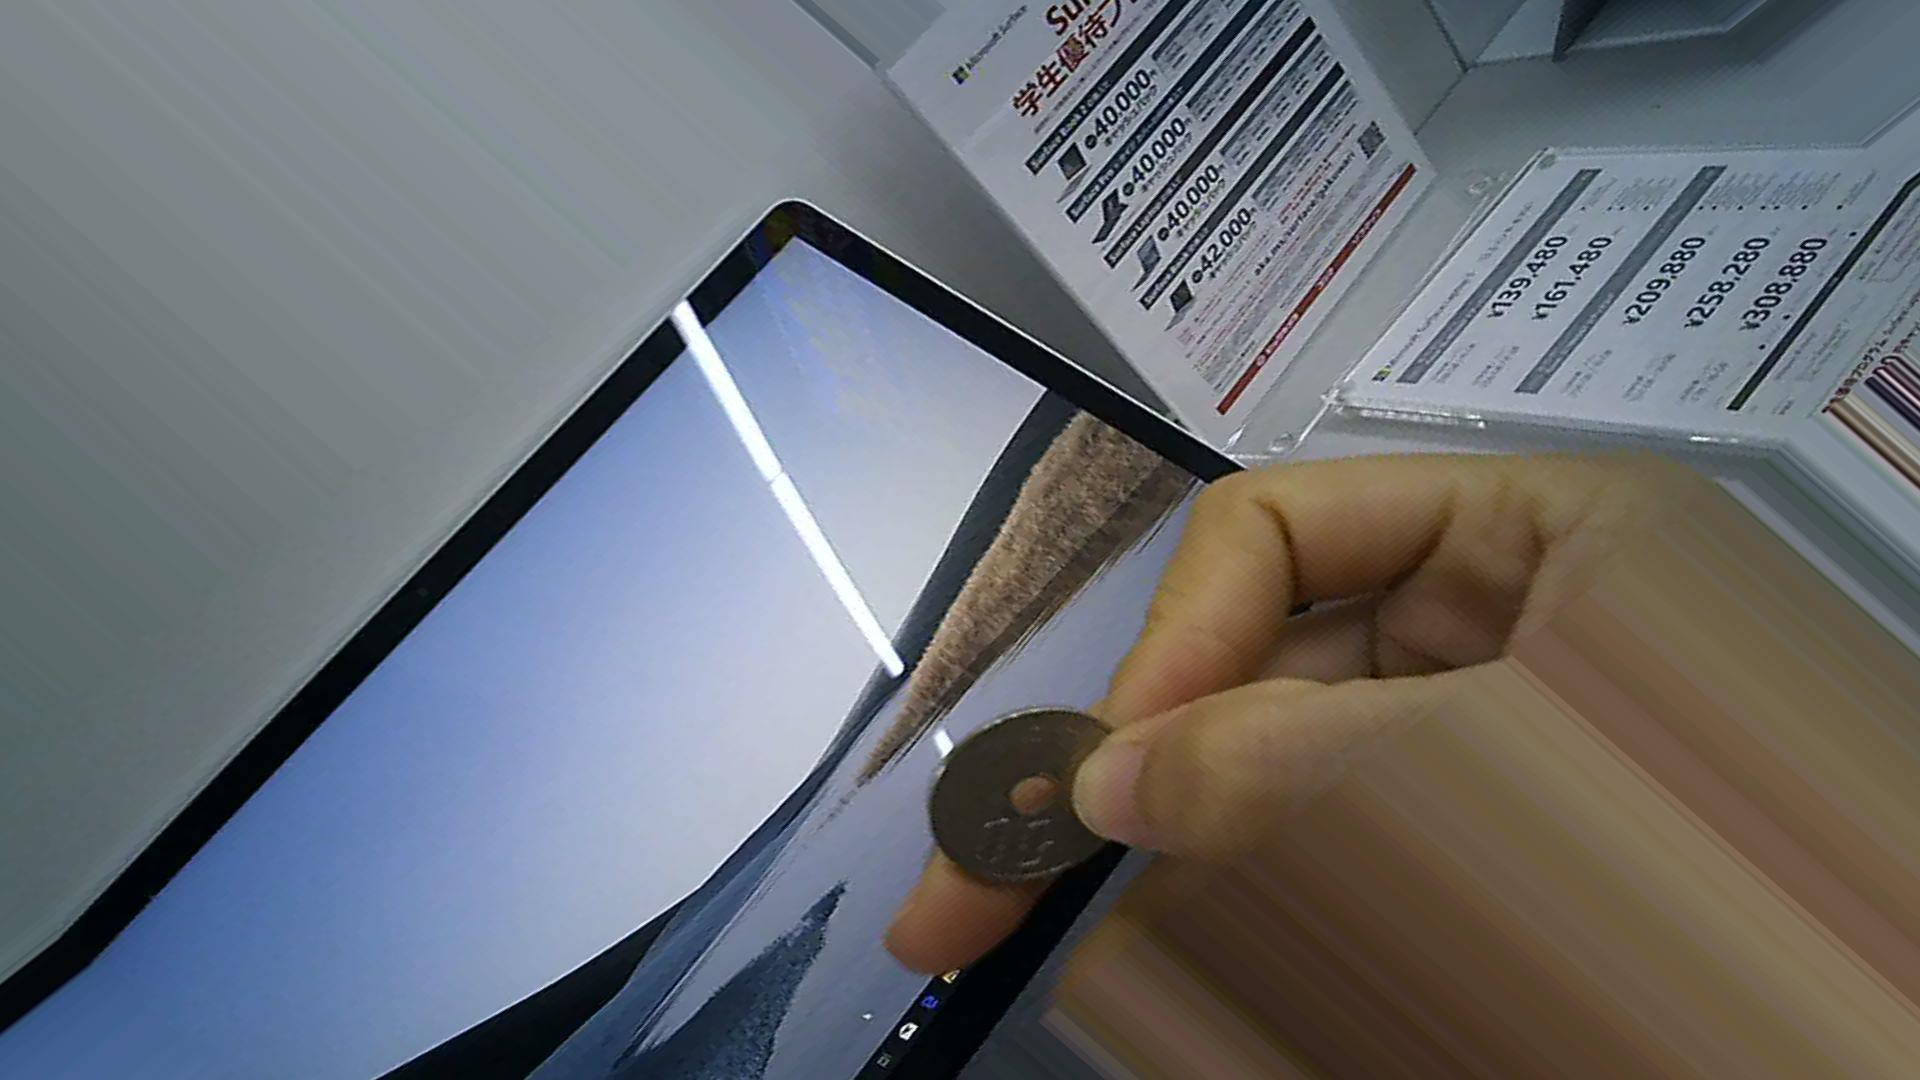50 Yen: (940, 704, 1147, 887)
